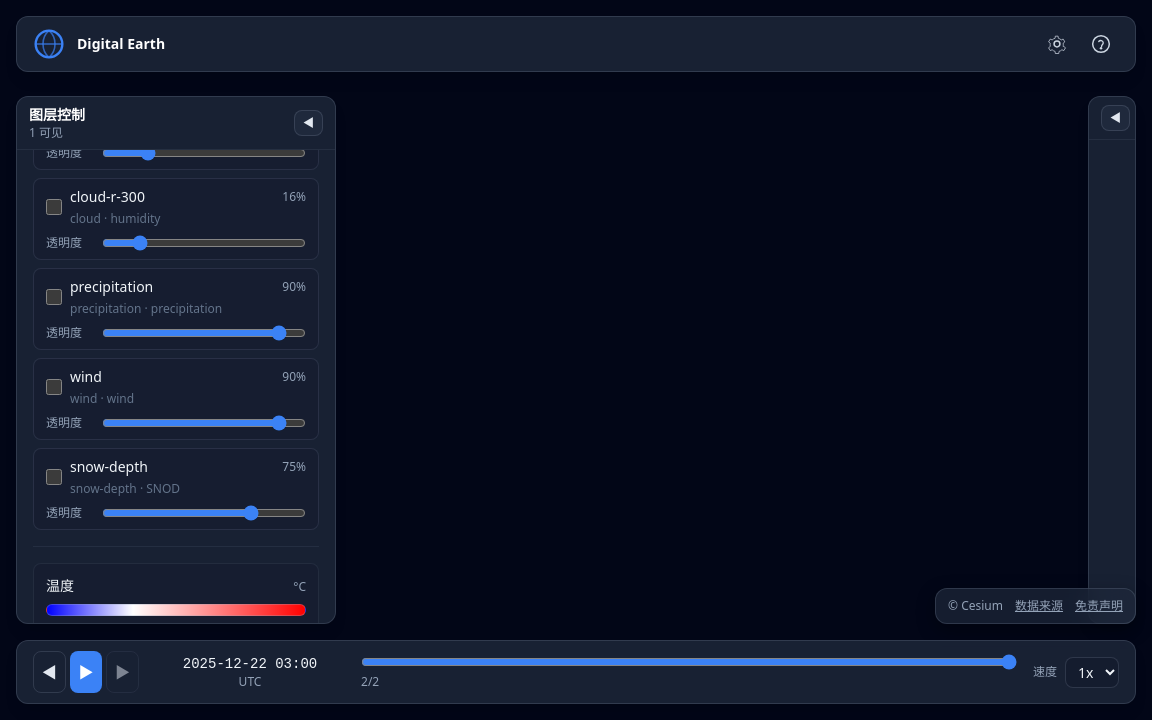
Test: switches active layer and updates legend
The width and height of the screenshot is (1152, 720).
(page scrolled)
Expected: the text "温度" is shown, [46,576,74,596]
Expected: the button with aria-label "查看数据来源" is shown, [1015,597,1063,615]
Step 1. Click the checkbox named "显示 wind" → (54, 386), box [46,378,62,394]
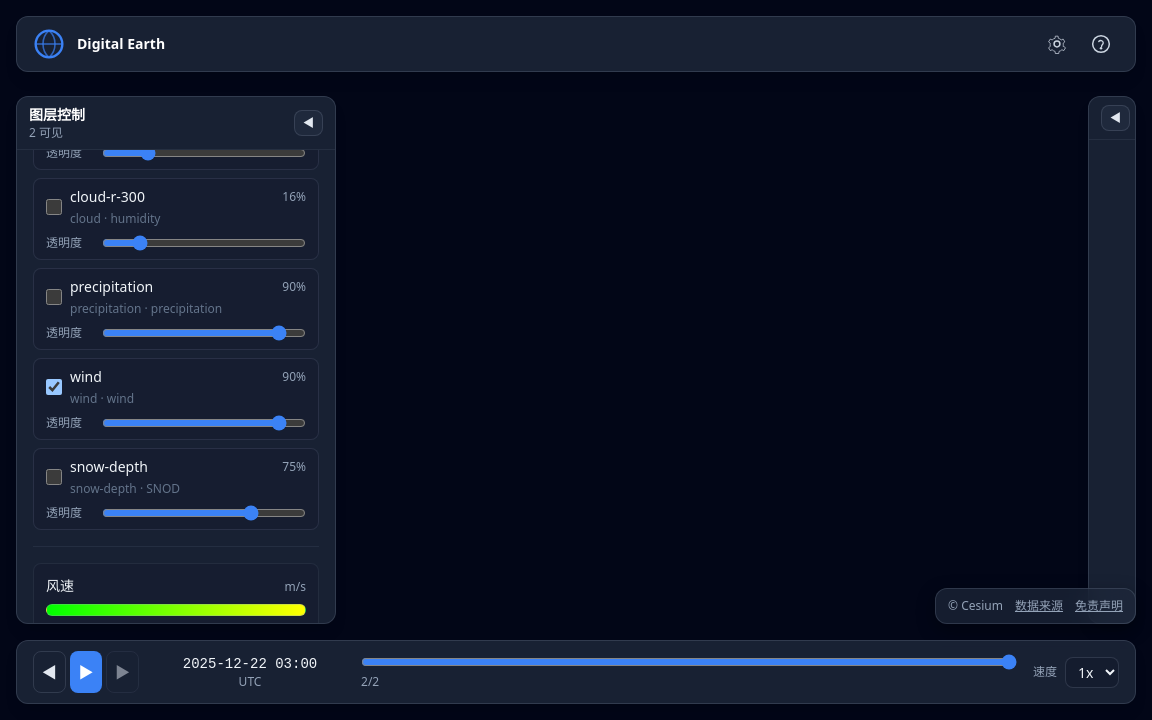
Now the text "风速" is shown, box [46,576,74,596]
